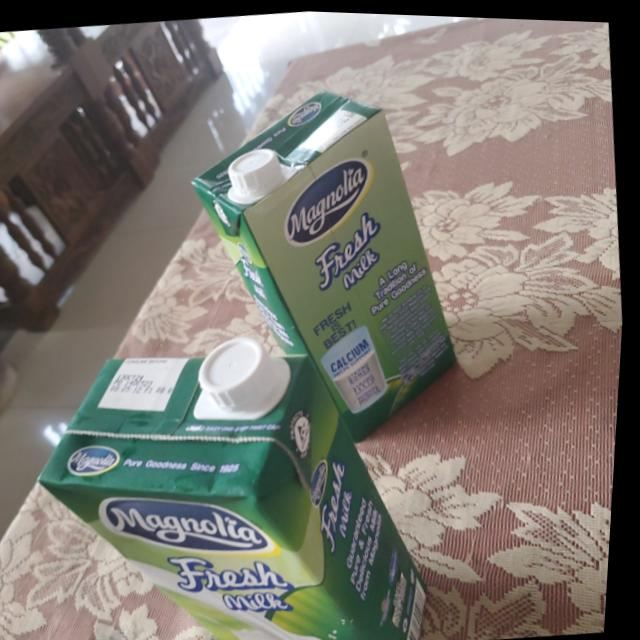milk: (19, 322, 447, 640), (170, 69, 481, 455)
